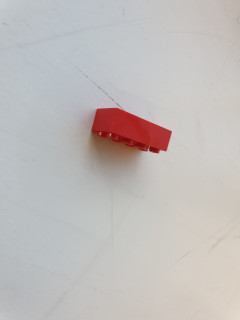2x4 red: (91, 107, 173, 154)
